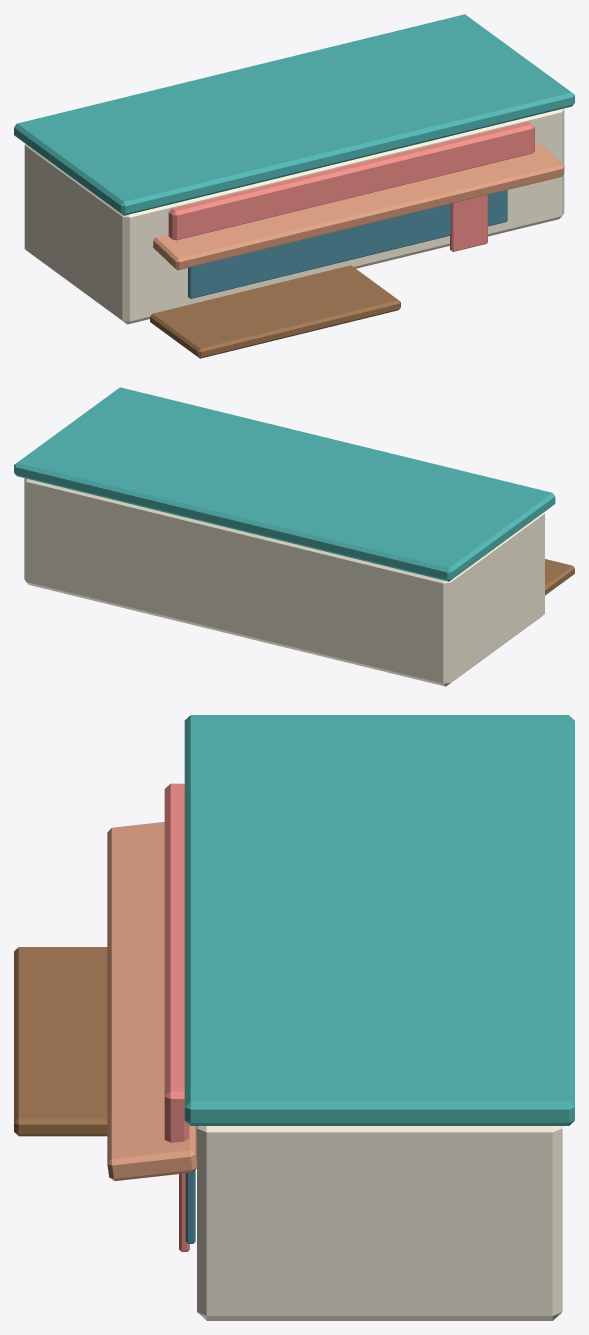
The model's file is COM_LOW_2x1_004.glb.
3 renders of one model, top to bottom at view 1: azimuth 30°, elevation 25°; view 2: azimuth 150°, elevation 25°; view 3: azimuth 270°, elevation 25°, orthographic. The views are drawn at different scales.
Visible parts, largest first — view 1: COM_LOW_2x1_004_Visual; view 2: COM_LOW_2x1_004_Visual; view 3: COM_LOW_2x1_004_Visual.
Boxes of the visible parts, x1,y1,x2,y2 form: COM_LOW_2x1_004_Visual: (14,14,574,358); COM_LOW_2x1_004_Visual: (14,387,574,686); COM_LOW_2x1_004_Visual: (14,715,574,1320).
Size of what is drawn, in the model's own units: 3.75 by 1.01 by 2.27.
